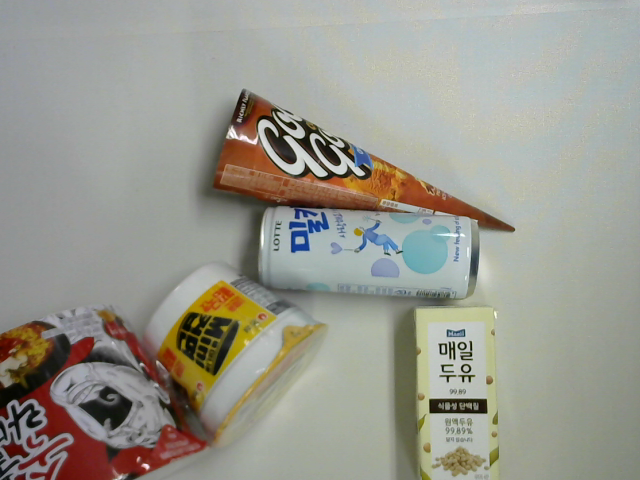99.89_Soymilk: (404, 304, 507, 480)
GooGoo_Cone_CVS: (213, 89, 518, 231)
Hejangmini: (142, 260, 327, 451)
Hejangpul: (1, 299, 214, 480)
Milkies_250ml: (255, 205, 484, 301)
